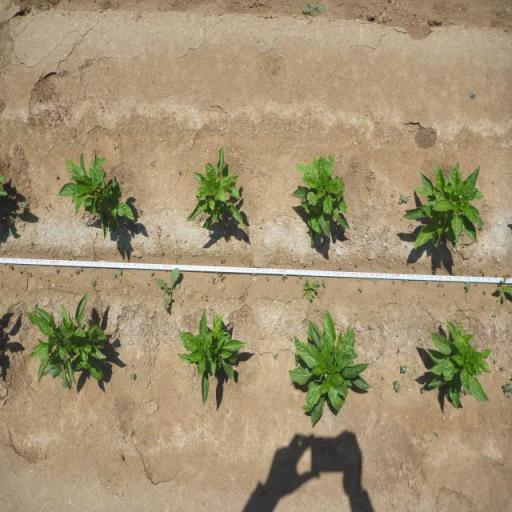plant: (292, 308, 373, 429), (23, 290, 113, 391), (403, 159, 487, 262), (57, 148, 136, 240), (177, 308, 248, 408), (426, 316, 492, 412), (292, 152, 350, 245), (186, 145, 246, 233)
weed: (157, 267, 182, 314), (300, 0, 328, 18), (497, 274, 512, 302), (302, 278, 317, 302), (503, 380, 512, 394), (112, 268, 122, 280), (398, 193, 408, 205), (74, 266, 84, 276), (216, 272, 226, 282), (398, 364, 408, 374), (393, 380, 401, 392), (272, 352, 280, 362), (464, 281, 470, 292), (20, 200, 26, 210), (281, 274, 288, 282), (26, 271, 33, 278), (90, 279, 96, 287), (314, 279, 320, 287), (130, 373, 136, 380), (220, 257, 226, 264), (211, 274, 215, 284), (321, 279, 326, 287), (8, 264, 14, 270), (264, 276, 270, 282), (438, 282, 444, 288), (358, 285, 362, 293), (177, 168, 182, 174), (150, 271, 154, 278), (296, 278, 300, 284), (412, 368, 416, 374), (483, 270, 486, 277), (55, 172, 57, 178), (56, 268, 58, 274), (290, 336, 292, 342)
